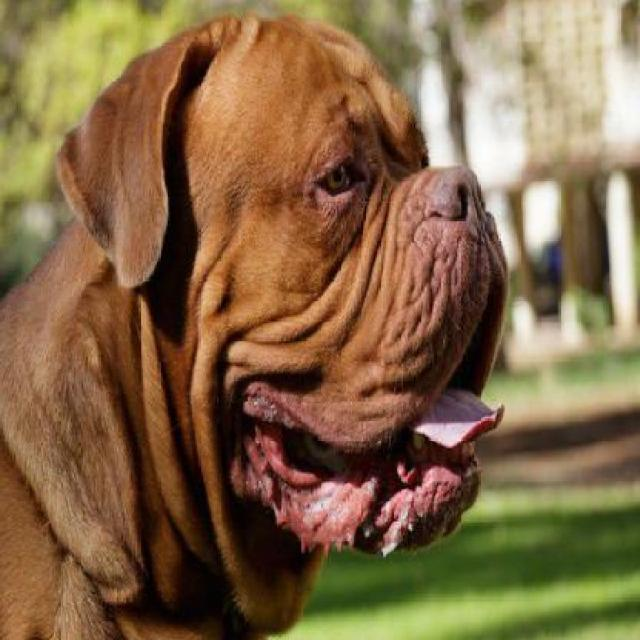animals: (7, 21, 616, 568)
